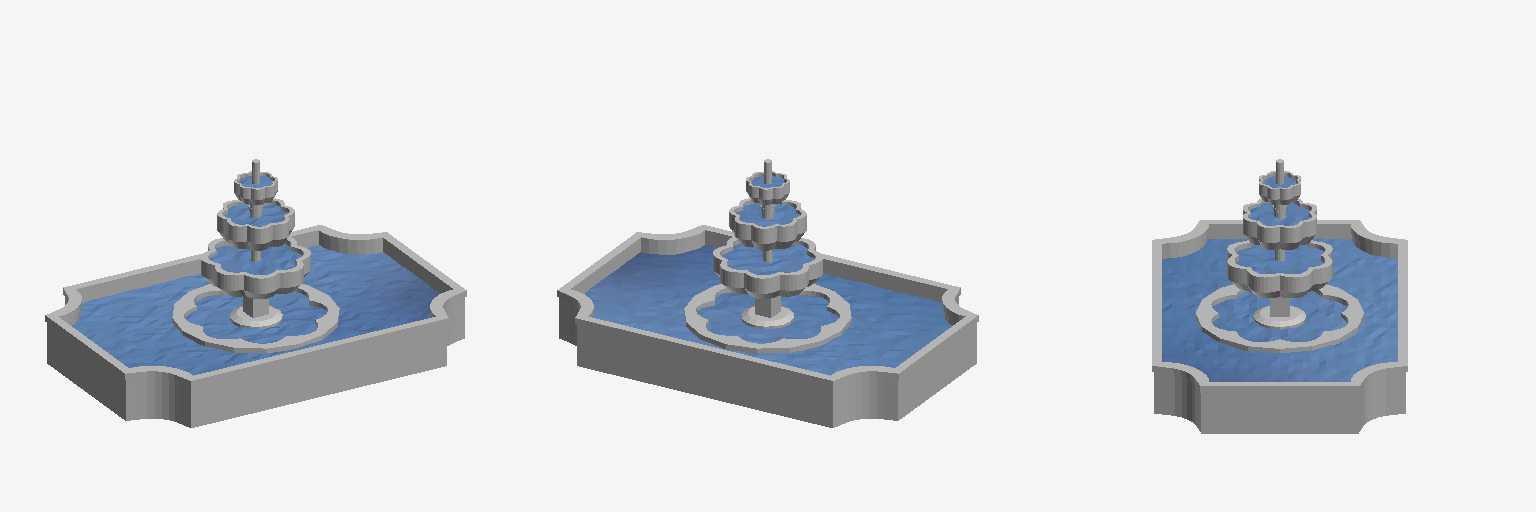
3 views of the same model, side by side, from view 1: azimuth 30°, elevation 25°; view 2: azimuth 150°, elevation 25°; view 3: azimuth 270°, elevation 25° (orthographic).
Visible parts, largest first — view 1: scene; view 2: scene; view 3: scene.
Boxes of the visible parts, box(x1,y1,x2,y2) form: scene: box(45, 159, 466, 427); scene: box(557, 159, 978, 427); scene: box(1152, 159, 1407, 433).
Bounding box in the file's own units: 3.54 × 1.88 × 2.29.
3 materials, 1 textured.